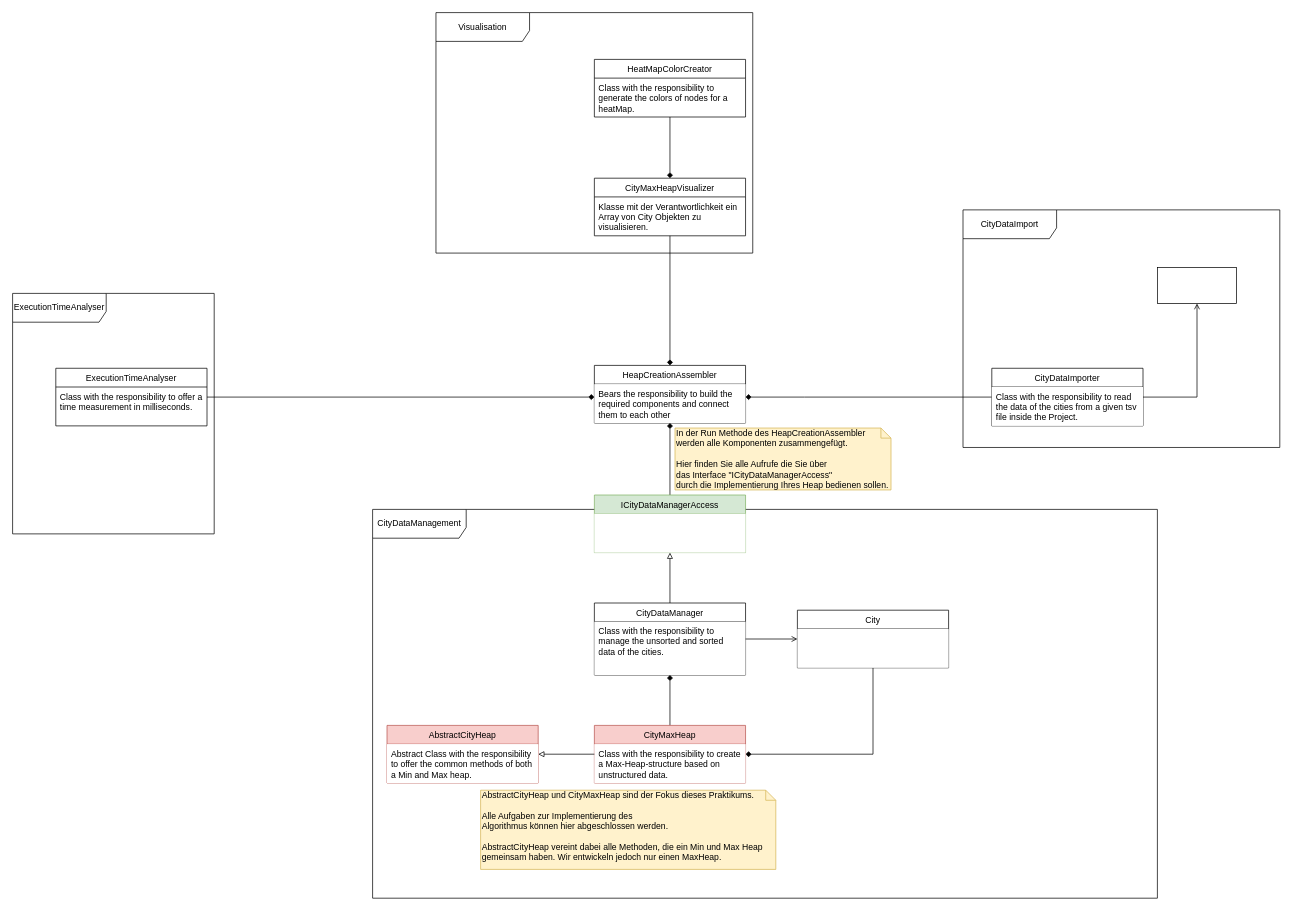
The diagram is 1292 pixels wide and 911 high, and some of its shapes have lost their labels. The centre of each missing label's shape, as x and y in pixels:
"city.tsv File" goes at [1197,285].
"Class with the responsibility to represent a city." goes at [872,648].
"Interface with the responsibility to offer CRUD operations to a City Heap." goes at [669,532].
